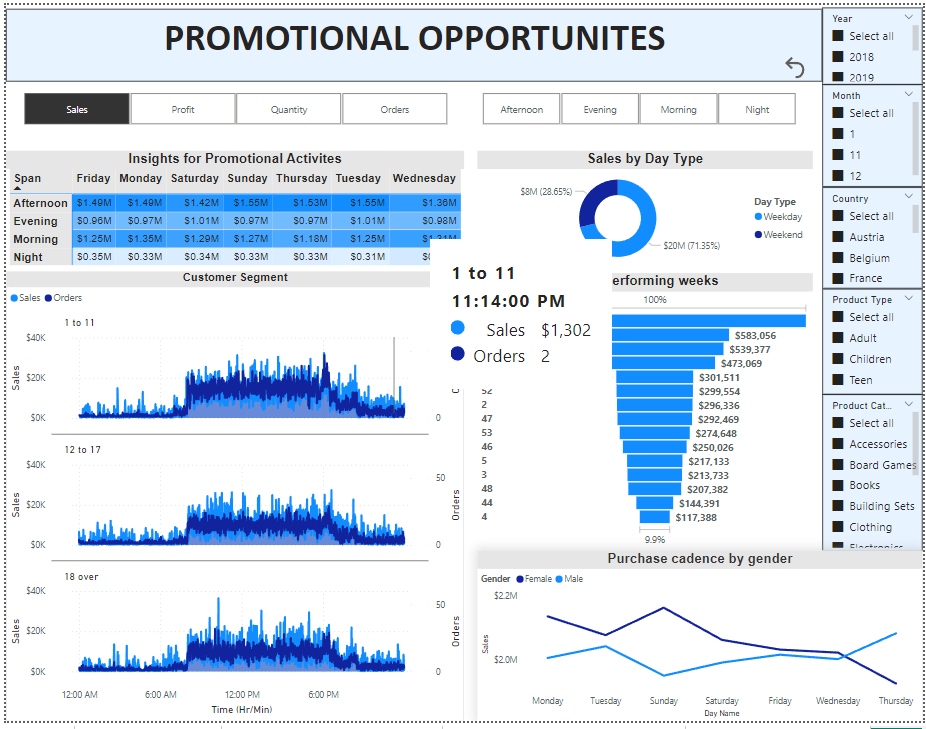

The page's visual inventory and layout, read from the dashboard file:
{"tool":"powerbi","page":{"name":"Promotional Opportunities","canvas":[1280,1000],"ordinal":3},"visuals":[{"type":"textbox","box":[0,5,1140,101.7],"z":0},{"type":"slicer","fields":{"Values":["Xmas Dataset.Date.Variation.Date Hierarchy.Year"]},"box":[1140,4.3,140,107.1],"z":1000},{"type":"slicer","fields":{"Values":["Xmas Dataset.Month"]},"box":[1140,111.4,140,142.9],"z":2000},{"type":"slicer","fields":{"Values":["Xmas Dataset.Country"]},"box":[1140,254.3,140,141.4],"z":3000},{"type":"slicer","fields":{"Values":["Xmas Dataset.Product Type"]},"box":[1140,395.7,140,147.1],"z":4000},{"type":"slicer","fields":{"Values":["Xmas Dataset.Product Category"]},"box":[1140,542.9,140,218.6],"z":5000},{"type":"funnel","title":"Best performing weeks","fields":{"Y":["Xmas Dataset.Total_Sales"],"Category":["Xmas Dataset.Week Number"]},"box":[658.3,375,468.3,386.7],"z":6000},{"type":"areaChart","title":"Customer Segment","fields":{"Y":["Xmas Dataset.Total_Sales"],"Category":["Xmas Dataset.Time (Hr/Min)"],"Rows":["Xmas Dataset.Customer Age Range"],"Y2":["Xmas Dataset.Total Orders"]},"box":[0,371.7,640,628.3],"z":7000},{"type":"lineChart","title":"Purchase cadence by gender","fields":{"Y":["Xmas Dataset.Total_Sales"],"Series":["Xmas Dataset.Gender"],"Category":["Xmas Dataset.Day Name"]},"box":[658.3,761.7,621.7,238.3],"z":8000},{"type":"slicer","fields":{"Values":["Metric Selection.Metric Selection"]},"box":[0,116.7,640,56.7],"z":10000},{"type":"pivotTable","title":"Insights for Promotional Activites","fields":{"Values":["Xmas Dataset.Total_Sales"],"Rows":["Xmas Dataset.Day time"],"Columns":["Xmas Dataset.Day Name"]},"box":[0,203.3,640,168.3],"z":11000},{"type":"donutChart","fields":{"Y":["Xmas Dataset.Total_Sales"],"Category":["Xmas Dataset.Day Type"]},"box":[658.3,203.3,468.3,168.3],"z":12000},{"type":"actionButton","box":[1081.7,66.7,58.3,40],"z":13000},{"type":"slicer","fields":{"Values":["Xmas Dataset.Span"]},"box":[640,116.7,486.7,56.7],"z":14000}]}

Visuals, with their boxes in screenshot pixels (x1, y1, x2, y2), scaled from the page's 1280x1000 canvas onto the 926x729 screenshot:
textbox: x1=0 y1=4 x2=825 y2=78
slicer - Xmas Dataset.Date.Variation.Date Hierarchy.Year: x1=825 y1=3 x2=925 y2=81
slicer - Xmas Dataset.Month: x1=825 y1=81 x2=925 y2=185
slicer - Xmas Dataset.Country: x1=825 y1=185 x2=925 y2=288
slicer - Xmas Dataset.Product Type: x1=825 y1=288 x2=925 y2=396
slicer - Xmas Dataset.Product Category: x1=825 y1=396 x2=925 y2=555
"Best performing weeks" funnel: x1=476 y1=273 x2=815 y2=555
"Customer Segment" areaChart: x1=0 y1=271 x2=463 y2=728
"Purchase cadence by gender" lineChart: x1=476 y1=555 x2=925 y2=728
slicer - Metric Selection.Metric Selection: x1=0 y1=85 x2=463 y2=126
"Insights for Promotional Activites" pivotTable: x1=0 y1=148 x2=463 y2=271
donutChart - Xmas Dataset.Total_Sales x Xmas Dataset.Day Type: x1=476 y1=148 x2=815 y2=271
actionButton: x1=783 y1=49 x2=825 y2=78
slicer - Xmas Dataset.Span: x1=463 y1=85 x2=815 y2=126
